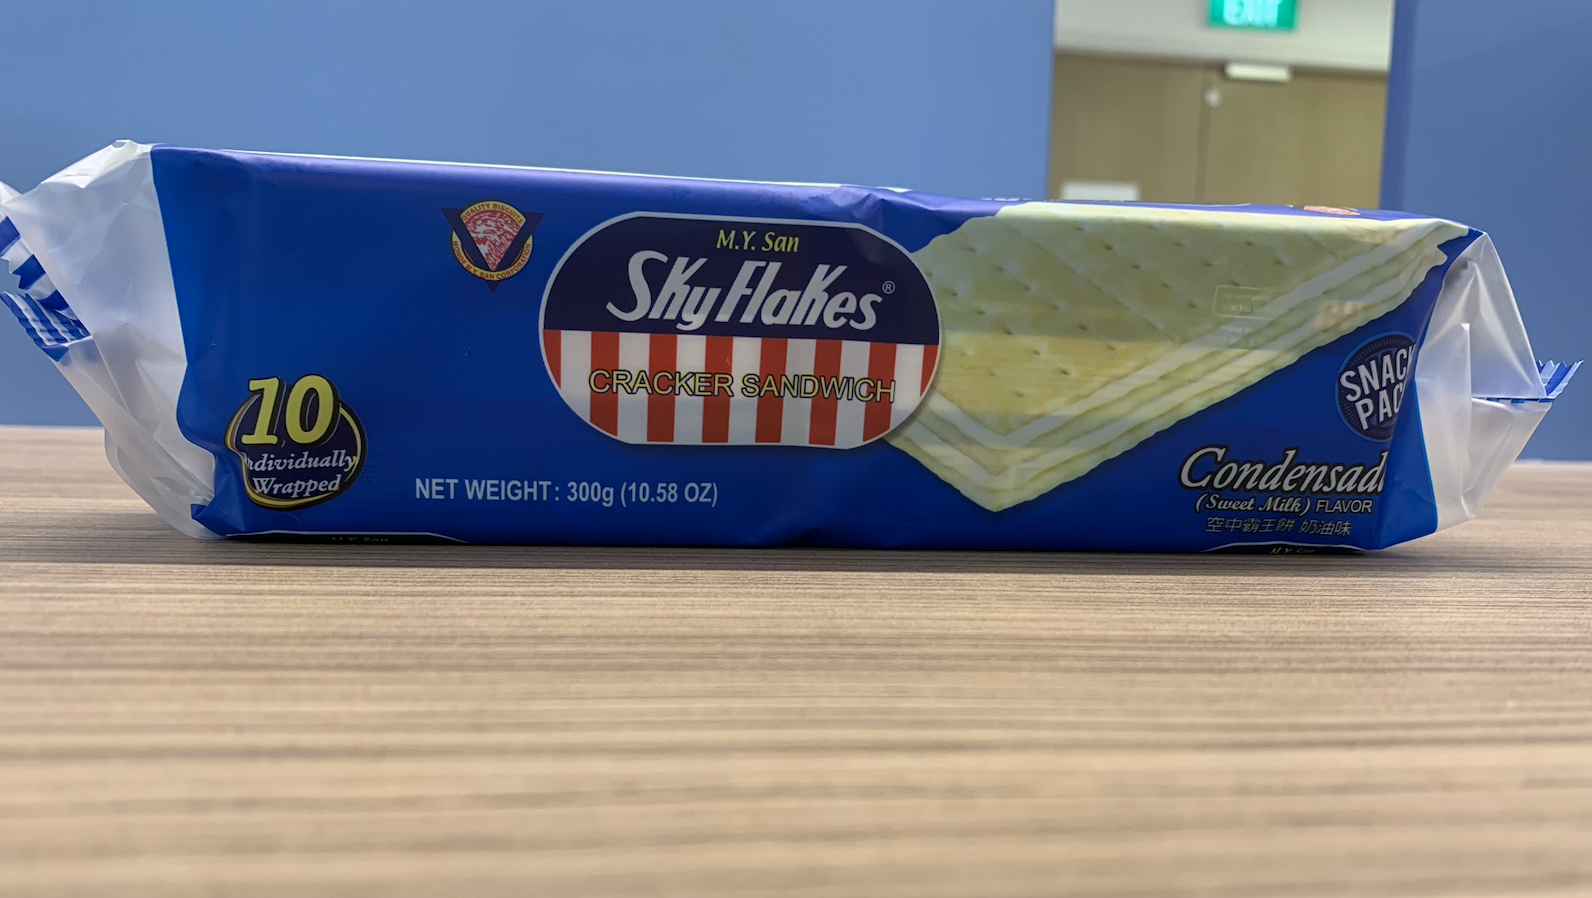crackers_150g: (222, 191, 1424, 533)
